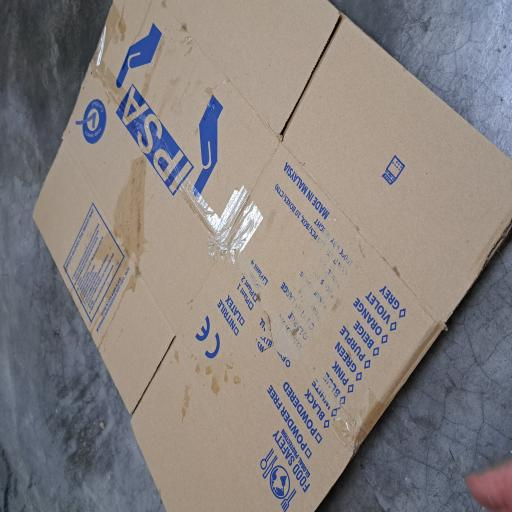cardboard: (0, 40, 384, 512)
